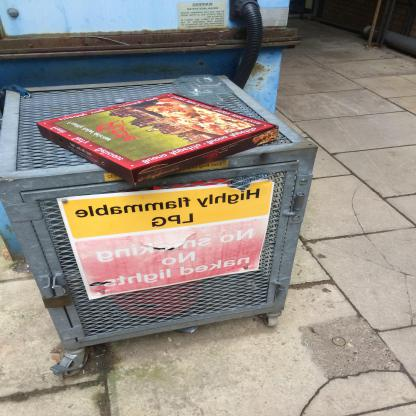karton: (36, 92, 280, 186)
plastik: (173, 75, 235, 104)
